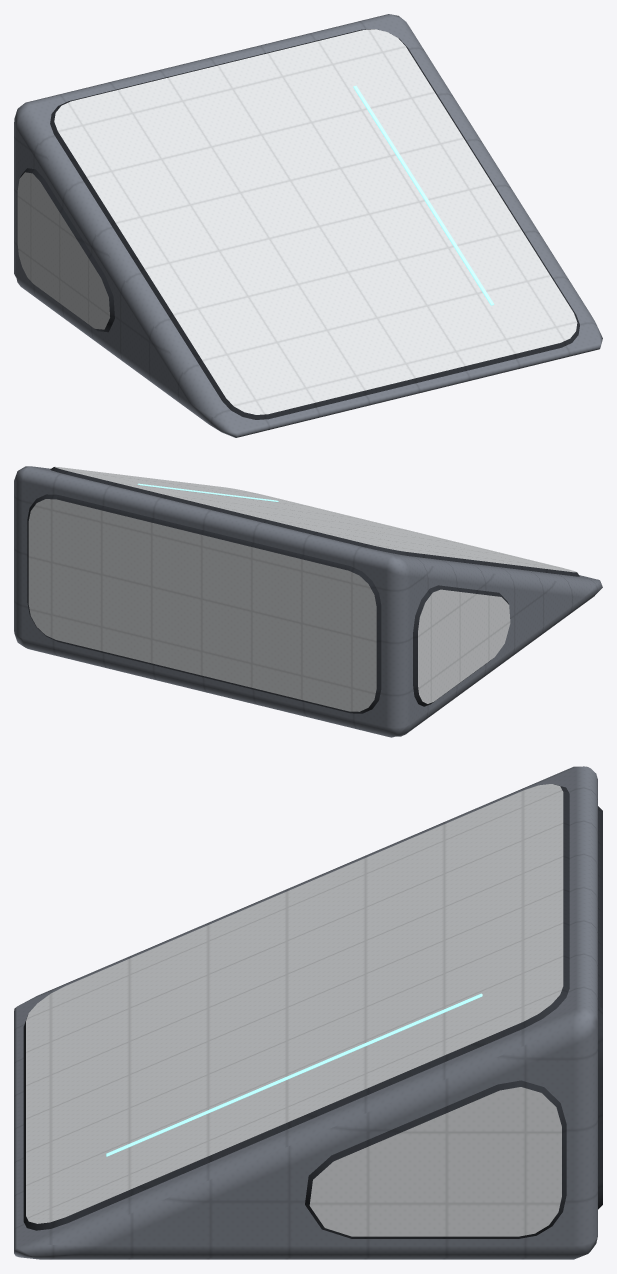
Rendered from R4B_HalfWedge.glb.
The picture shows the model from 3 angles, top to bottom: view 1: azimuth 30°, elevation 25°; view 2: azimuth 150°, elevation 25°; view 3: azimuth 270°, elevation 25°; orthographic projection. The views are drawn at different scales.
Parts seen in each view (by area): view 1: R4B_HalfWedge; view 2: R4B_HalfWedge; view 3: R4B_HalfWedge.
Part boxes in pixels (box(x1,y1,x2,y2)): R4B_HalfWedge: box(14, 14, 602, 437); R4B_HalfWedge: box(14, 466, 602, 737); R4B_HalfWedge: box(14, 766, 602, 1259).
Bounding box in the file's own units: 0.52 × 0.2314 × 0.4865.
Materials: 4 (3 with a texture image).
